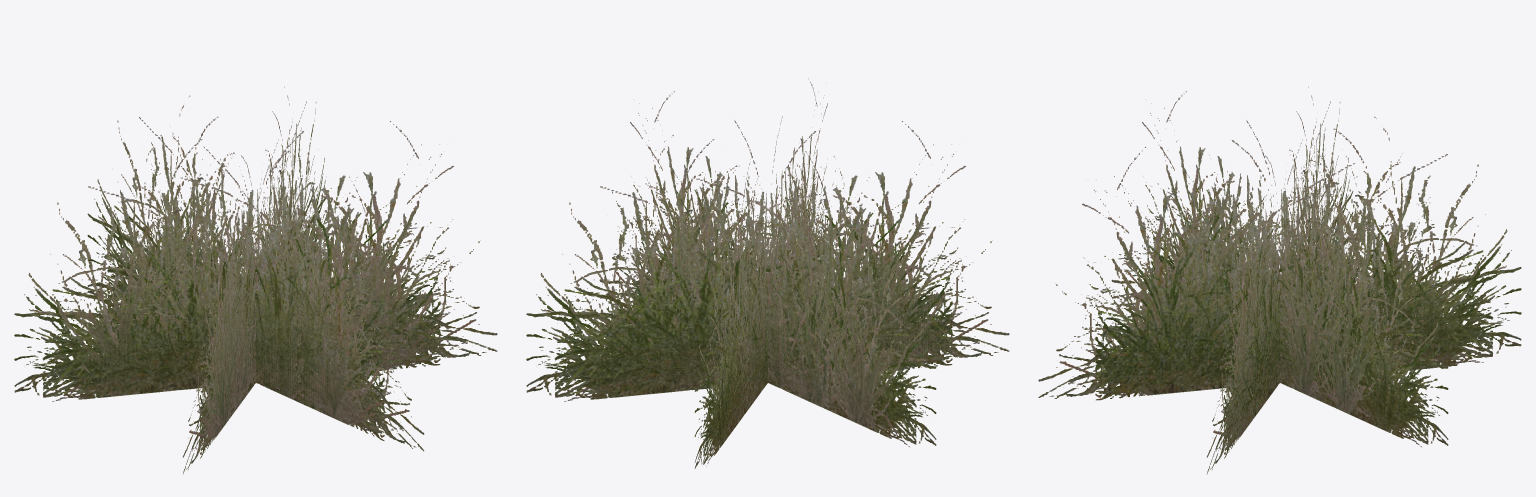
The model's file is grass_clumps.glb.
3 views of the same model, side by side, from view 1: azimuth 30°, elevation 25°; view 2: azimuth 150°, elevation 25°; view 3: azimuth 270°, elevation 25° (orthographic).
Parts seen in each view (by area): view 1: grass_clump_0, grass_clump_1, grass_clump_7, grass_clump_6, grass_clump_3, grass_clump_5, grass_clump_4, grass_clump_2; view 2: grass_clump_0, grass_clump_6, grass_clump_7, grass_clump_1, grass_clump_4, grass_clump_2, grass_clump_5, grass_clump_3; view 3: grass_clump_4, grass_clump_1, grass_clump_5, grass_clump_0, grass_clump_6, grass_clump_7, grass_clump_3, grass_clump_2.
Boxes of the visible parts, bbox=[...] form: grass_clump_0: bbox=[42, 154, 453, 450]; grass_clump_1: bbox=[14, 127, 423, 443]; grass_clump_7: bbox=[28, 86, 480, 450]; grass_clump_6: bbox=[14, 163, 497, 473]; grass_clump_3: bbox=[35, 149, 458, 454]; grass_clump_5: bbox=[80, 101, 453, 444]; grass_clump_4: bbox=[78, 123, 440, 458]; grass_clump_2: bbox=[84, 126, 408, 422]; grass_clump_0: bbox=[554, 147, 965, 464]; grass_clump_6: bbox=[526, 133, 1009, 462]; grass_clump_7: bbox=[540, 103, 992, 455]; grass_clump_1: bbox=[526, 167, 936, 468]; grass_clump_4: bbox=[589, 136, 952, 443]; grass_clump_2: bbox=[596, 116, 922, 431]; grass_clump_5: bbox=[592, 78, 965, 413]; grass_clump_3: bbox=[547, 155, 970, 411]; grass_clump_4: bbox=[1095, 123, 1464, 458]; grass_clump_1: bbox=[1116, 127, 1521, 446]; grass_clump_5: bbox=[1082, 91, 1455, 444]; grass_clump_0: bbox=[1082, 154, 1493, 450]; grass_clump_6: bbox=[1038, 140, 1521, 474]; grass_clump_7: bbox=[1055, 86, 1507, 450]; grass_clump_3: bbox=[1077, 149, 1500, 454]; grass_clump_2: bbox=[1131, 120, 1422, 411].
Bounding box in the file's own units: 0.812 × 0.52 × 0.8288.
Materials: 1 (1 with a texture image).
